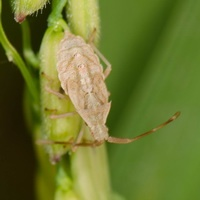insect: (37, 24, 178, 163)
